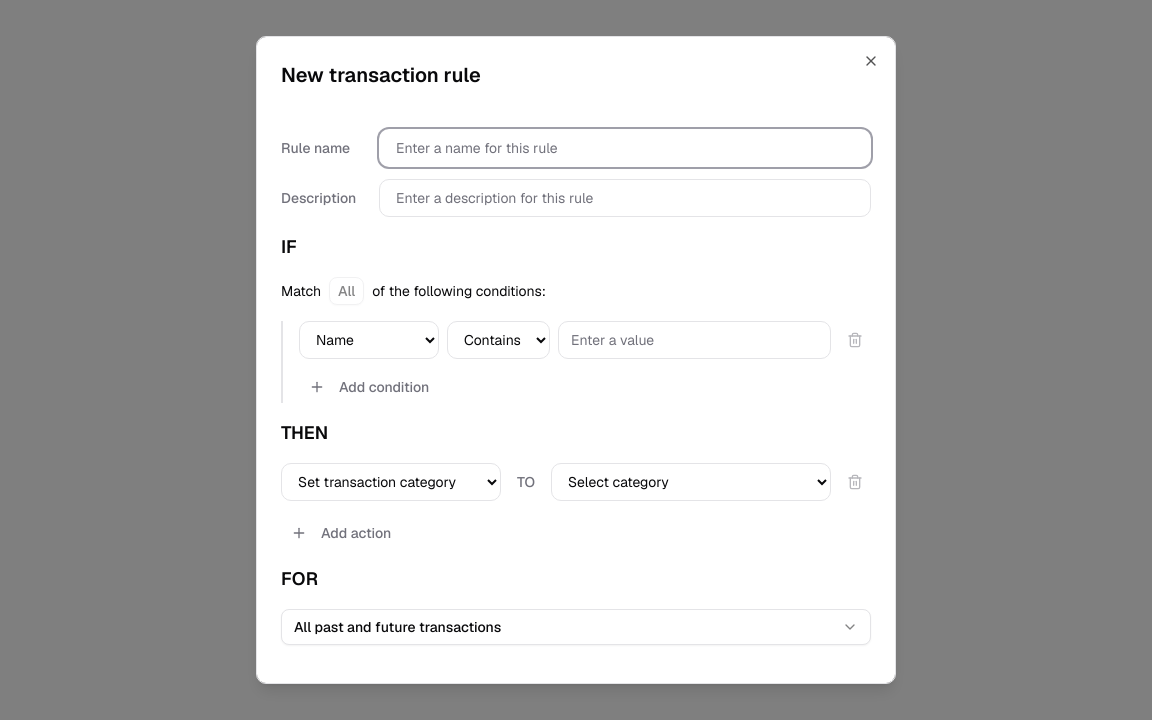
RuleModal › requires a date when the rule starts from a date
This screenshot has width=1152, height=720.
Step 1. Type "Coffee rule" into the field with placeholder "Enter a name for this rule" → (625, 148), box left=379, top=129, right=871, bottom=167
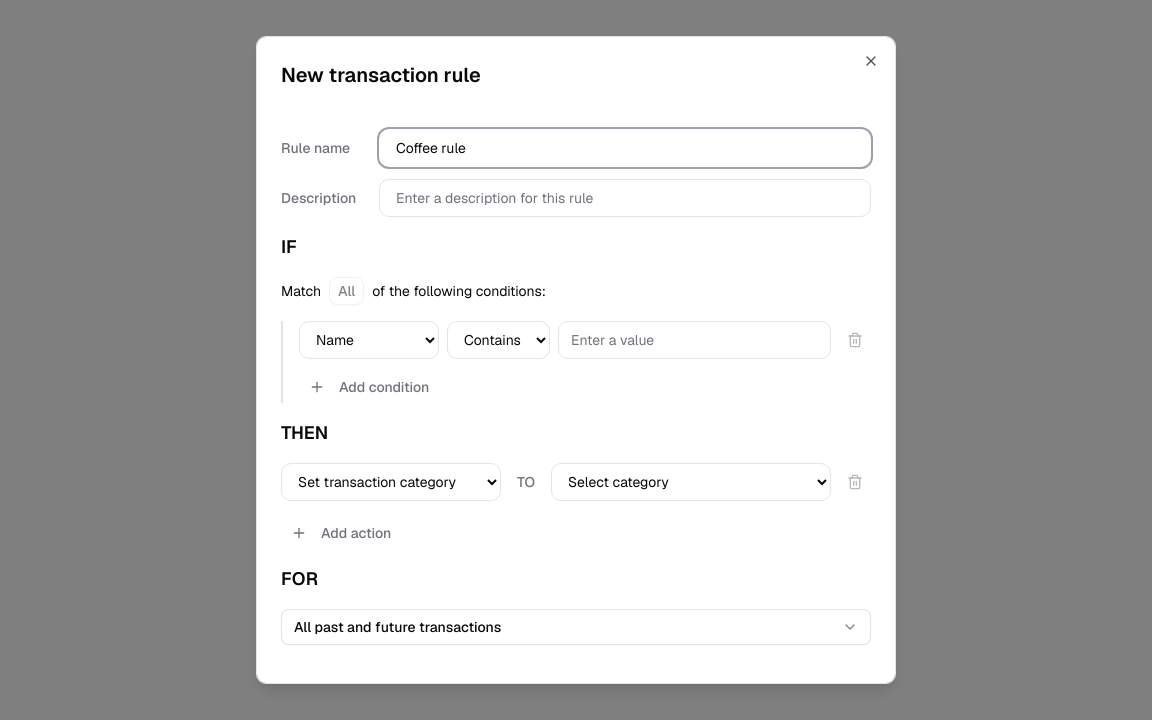
Step 2. Type "coffee" into the field with placeholder "Enter a value" → (694, 340), box left=558, top=321, right=831, bottom=359
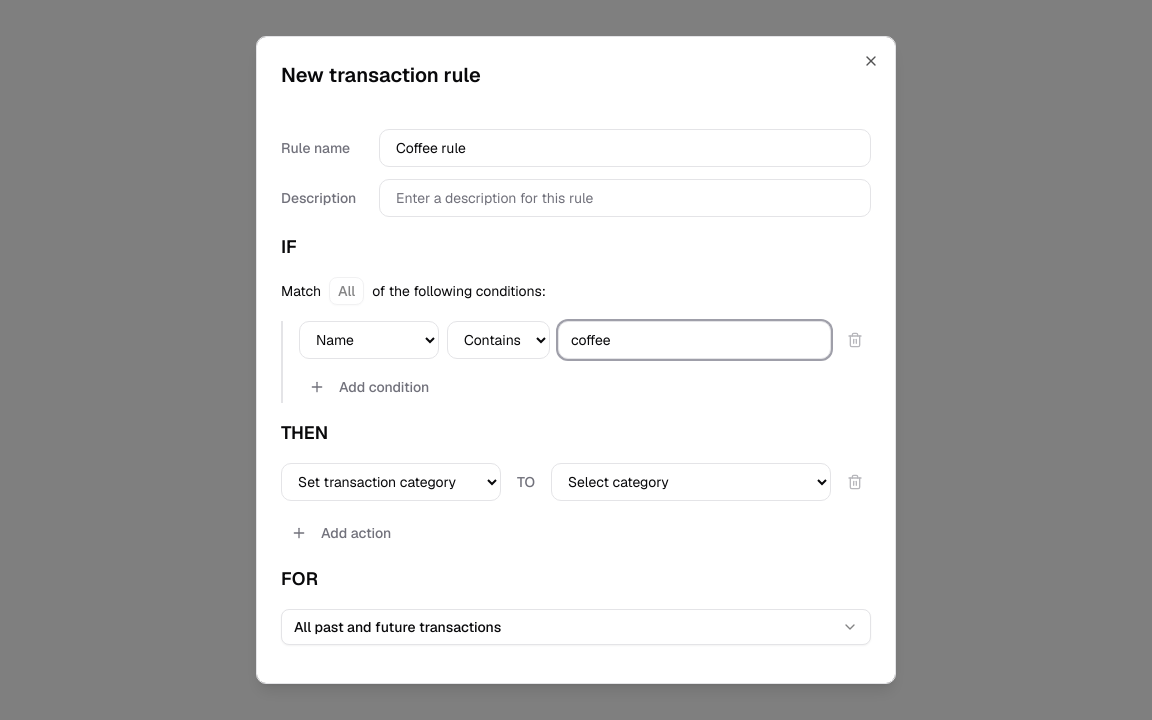
Step 3. Select "Food" in the 4th dropdown → (691, 482), box left=551, top=463, right=831, bottom=501
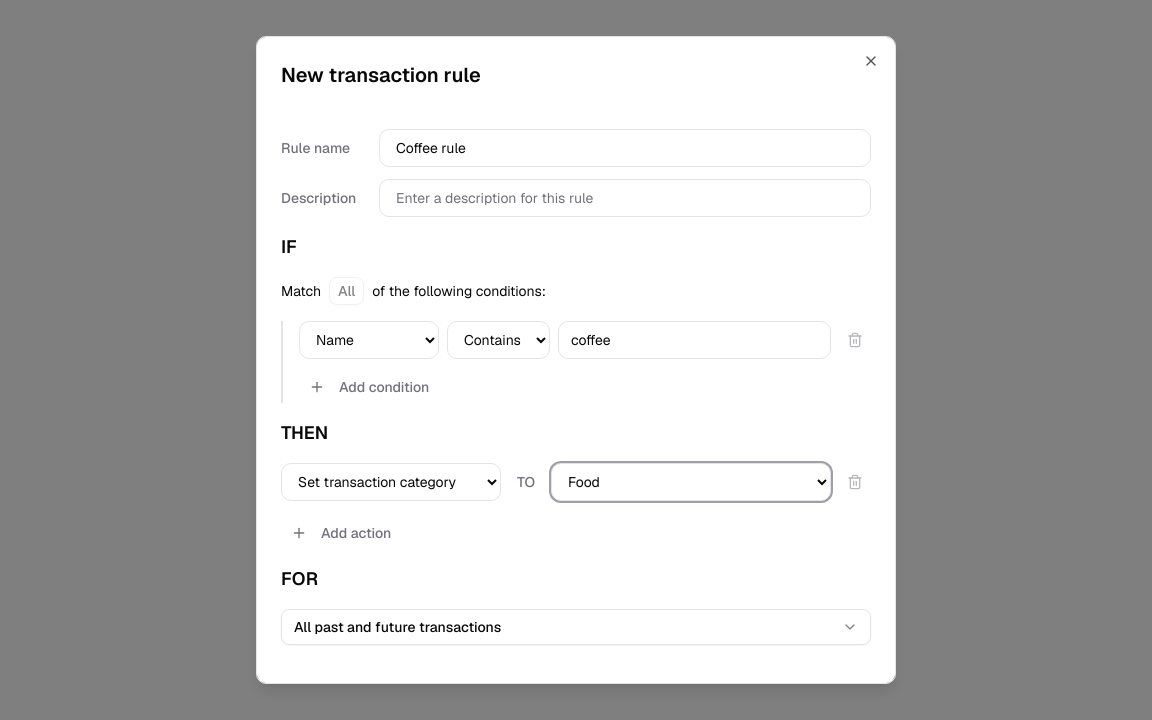
Step 4. Click the button "All past and future transactions" → (398, 627), box left=281, top=609, right=871, bottom=645
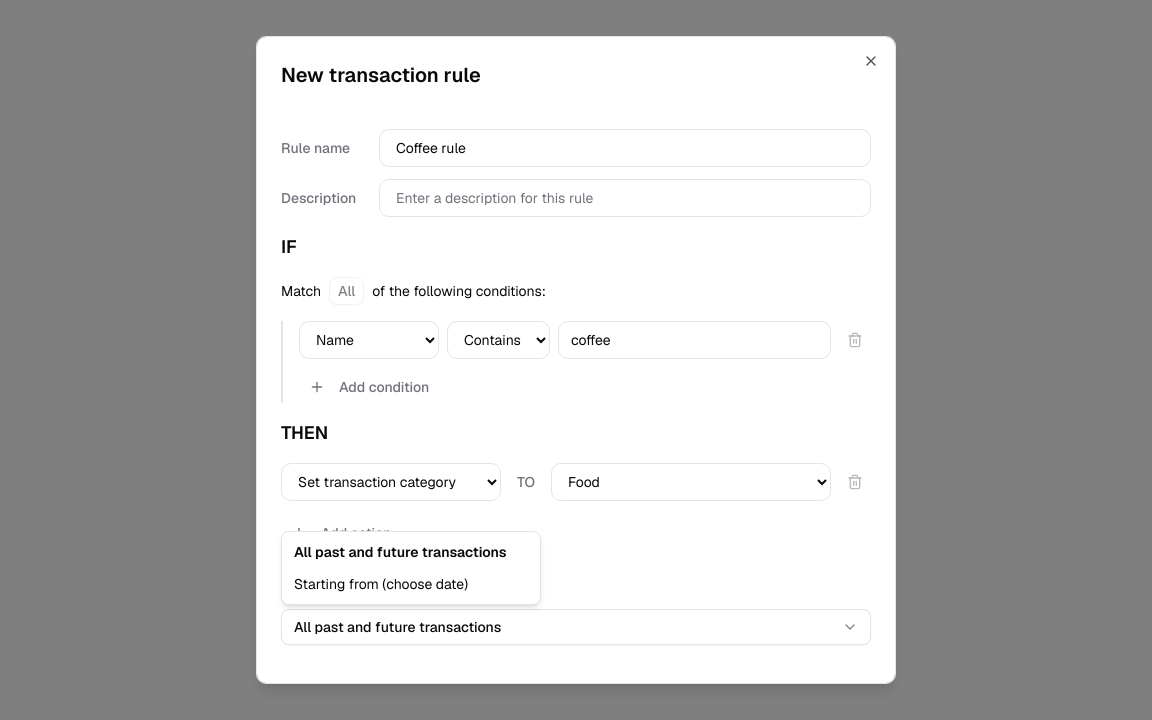
Step 5. Click the menu item "Starting from (choose date)" → (381, 584), box left=294, top=575, right=468, bottom=593
(page scrolled)
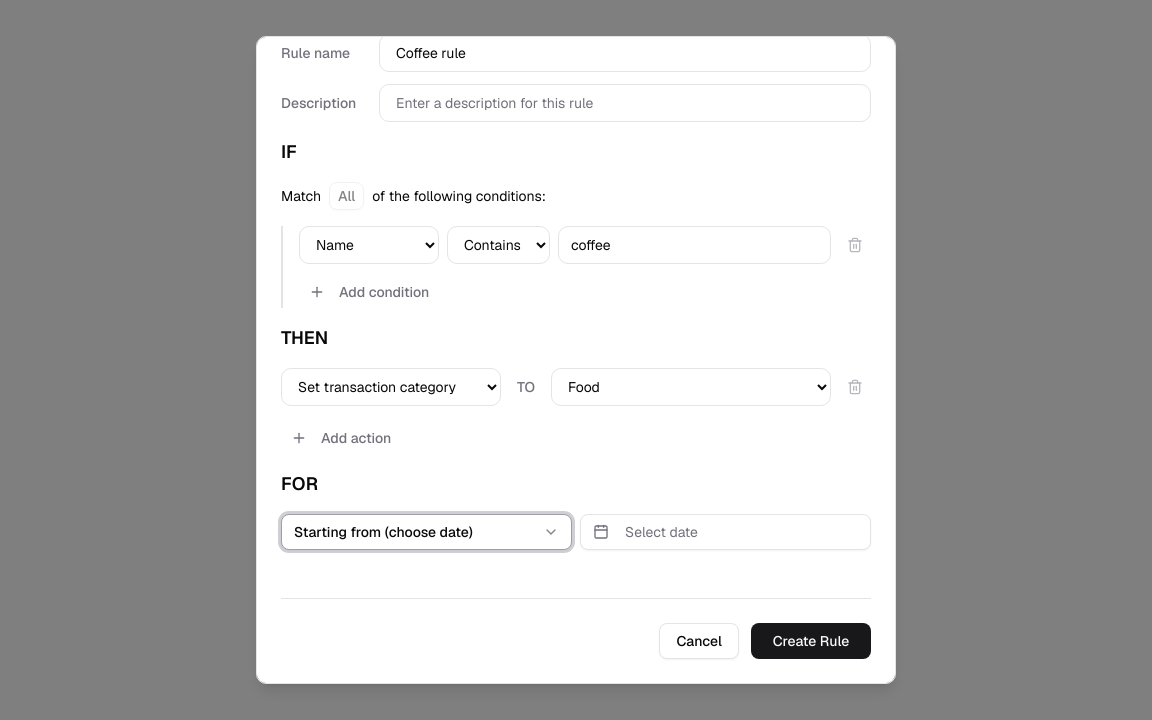
Step 6. Click the button "Create Rule" → (811, 641), box left=751, top=623, right=871, bottom=659
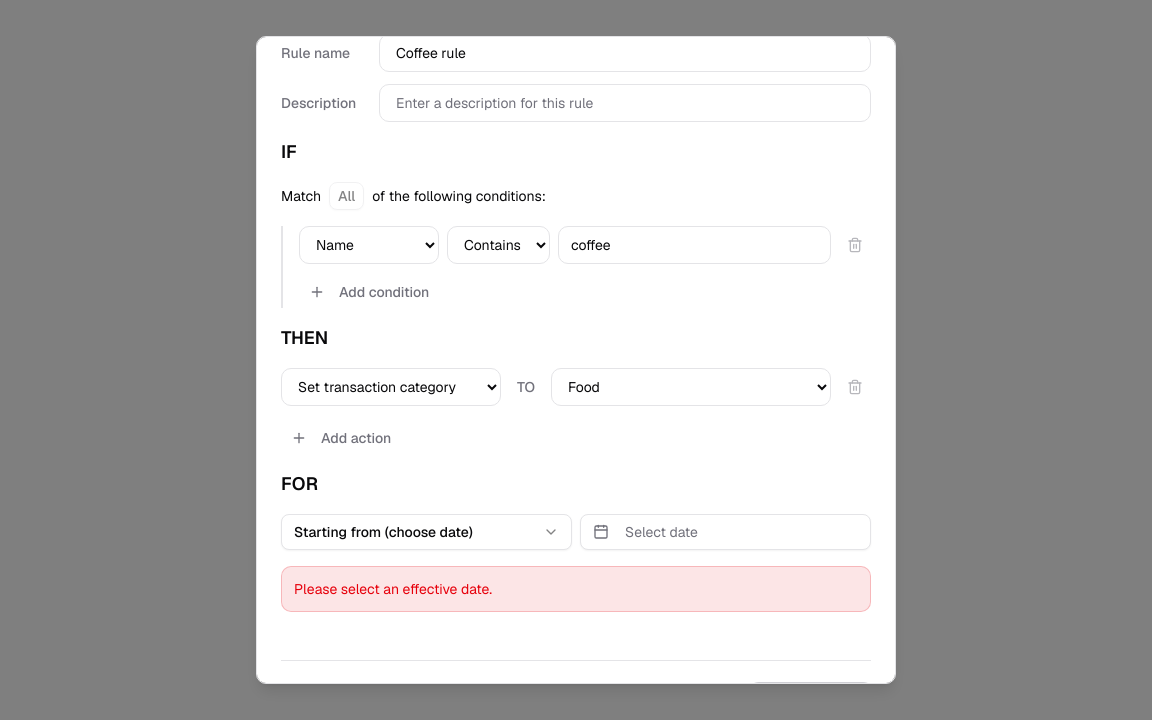
Check: the text "Please select an effective date." is shown, box left=281, top=566, right=871, bottom=612
